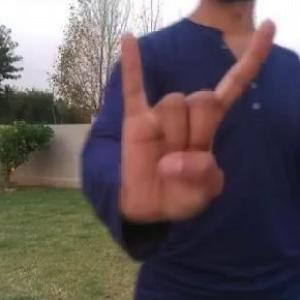takeoff-hand: (113, 9, 281, 240)
